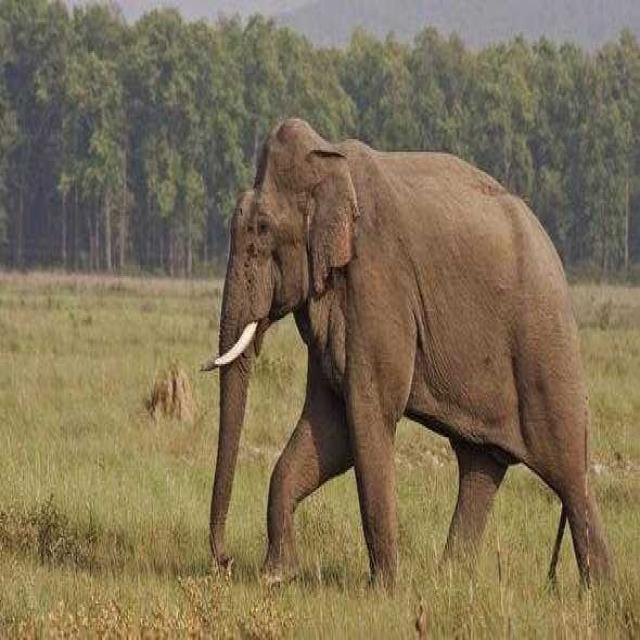Elephant: (198, 115, 613, 600)
